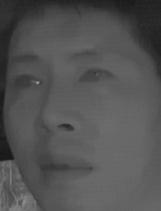eye: (75, 65, 116, 87), (10, 68, 45, 93)
mouth: (34, 147, 95, 183)
